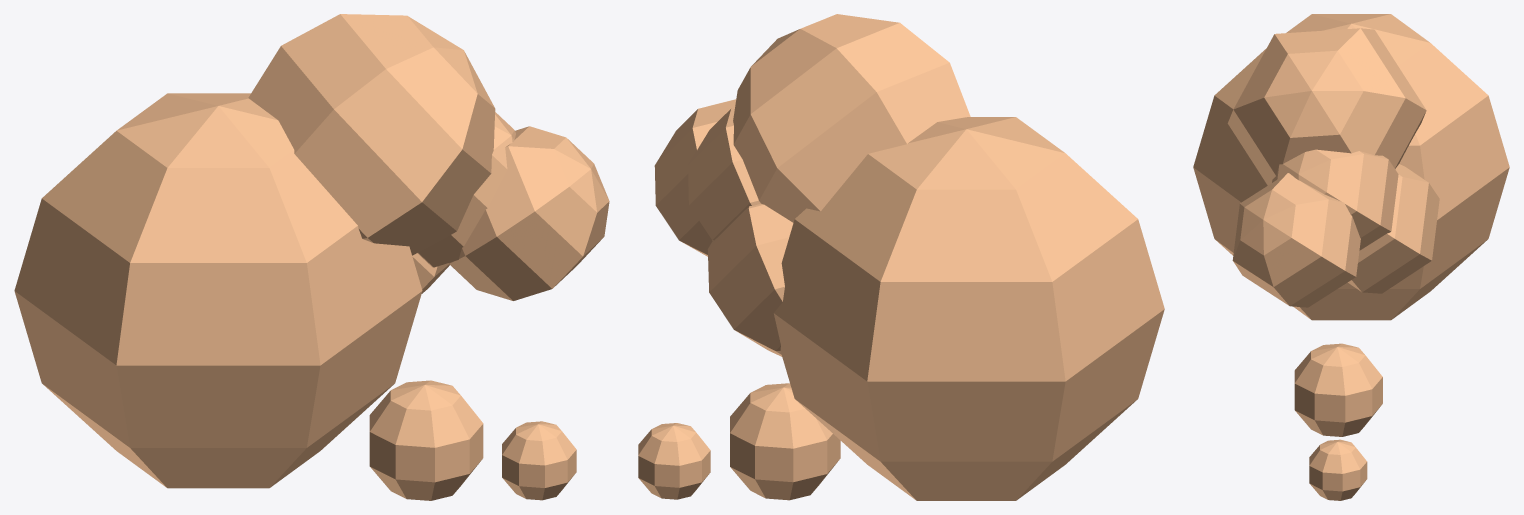
The model's file is neutral_cloud_lower_poly_emotive_broken3.gltf.
3 views of the same model, side by side, from view 1: azimuth 30°, elevation 25°; view 2: azimuth 150°, elevation 25°; view 3: azimuth 270°, elevation 25° (orthographic). The views are drawn at different scales.
Visible parts, largest first — view 1: Sphere.002, Sphere.004, Sphere.007, Sphere.011, Sphere.010, Sphere.006, Sphere.005; view 2: Sphere.002, Sphere.004, Sphere.011, Sphere.005, Sphere.006, Sphere.007, Sphere.010; view 3: Sphere.002, Sphere.004, Sphere.007, Sphere.011, Sphere.006, Sphere.005, Sphere.010.
Boxes of the visible parts, x1=… form: Sphere.002: x1=14, y1=93, x2=422, y2=488; Sphere.004: x1=248, y1=14, x2=495, y2=255; Sphere.007: x1=448, y1=126, x2=609, y2=300; Sphere.011: x1=369, y1=380, x2=483, y2=500; Sphere.010: x1=502, y1=421, x2=576, y2=500; Sphere.006: x1=417, y1=112, x2=515, y2=267; Sphere.005: x1=412, y1=253, x2=449, y2=293; Sphere.002: x1=773, y1=117, x2=1164, y2=500; Sphere.004: x1=733, y1=14, x2=970, y2=222; Sphere.011: x1=730, y1=383, x2=840, y2=500; Sphere.005: x1=707, y1=203, x2=793, y2=356; Sphere.006: x1=688, y1=107, x2=760, y2=240; Sphere.007: x1=654, y1=99, x2=736, y2=256; Sphere.010: x1=638, y1=423, x2=710, y2=499; Sphere.002: x1=1193, y1=14, x2=1509, y2=320; Sphere.004: x1=1227, y1=28, x2=1426, y2=185; Sphere.007: x1=1232, y1=173, x2=1360, y2=307; Sphere.011: x1=1294, y1=343, x2=1382, y2=436; Sphere.006: x1=1272, y1=149, x2=1398, y2=250; Sphere.005: x1=1348, y1=164, x2=1439, y2=293; Sphere.010: x1=1309, y1=439, x2=1367, y2=500.
Bounding box in the file's own units: 1.23 × 1.22 × 0.8741.
